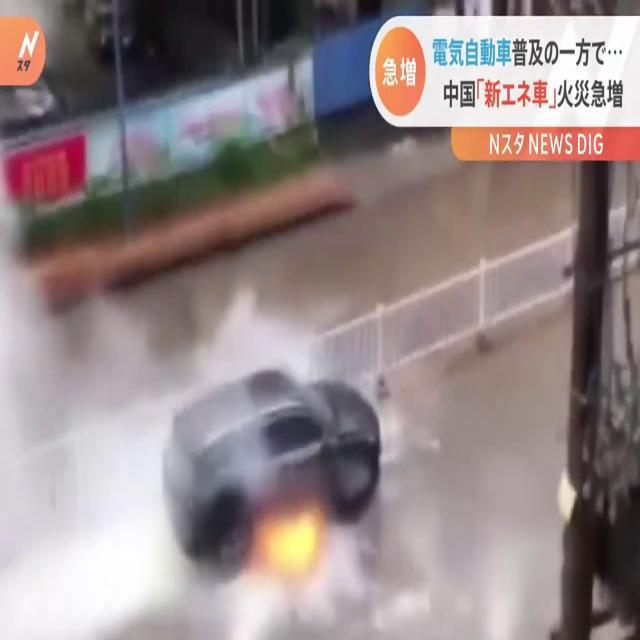Fire: (244, 496, 338, 590)
Smoke: (0, 121, 320, 622)
